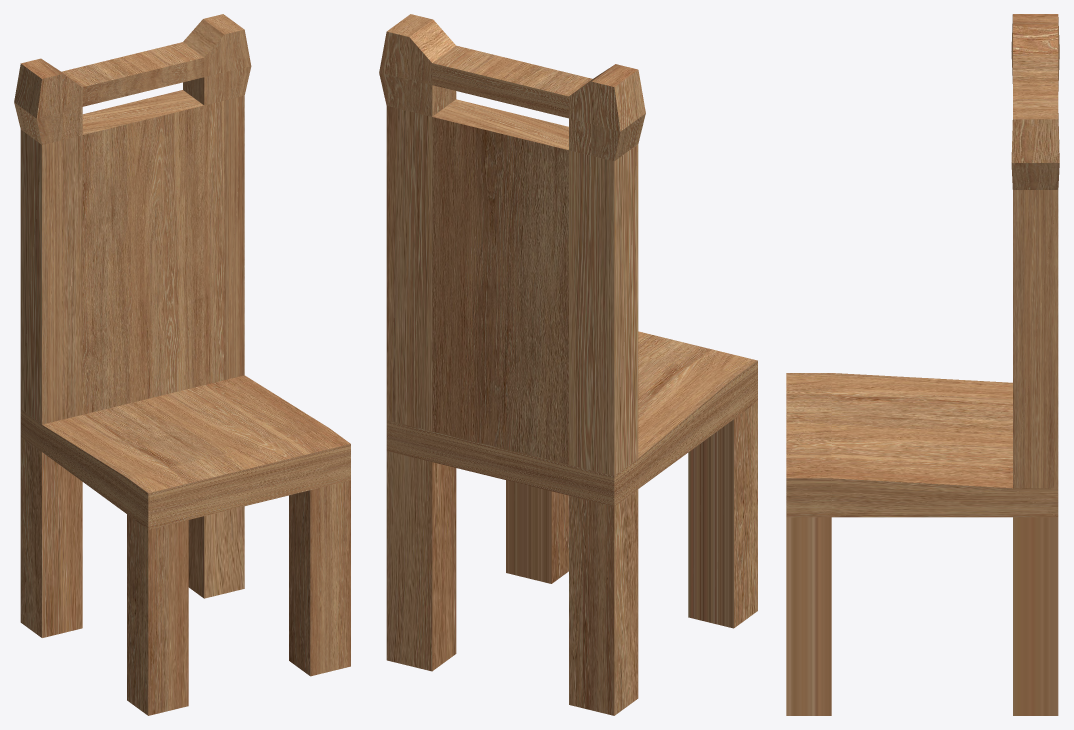
The model's file is Chair1.fbx.
The picture shows the model from 3 angles, left to right: view 1: azimuth 30°, elevation 25°; view 2: azimuth 150°, elevation 25°; view 3: azimuth 270°, elevation 25°; orthographic projection. The views are drawn at different scales.
Parts seen in each view (by area): view 1: Cube.001; view 2: Cube.001; view 3: Cube.001.
Boxes of the visible parts, <box> form: Cube.001: <box>14,14,350,715</box>; Cube.001: <box>379,14,757,715</box>; Cube.001: <box>786,14,1059,715</box>.
Size of the model in its own units: 210 by 522 by 217.
